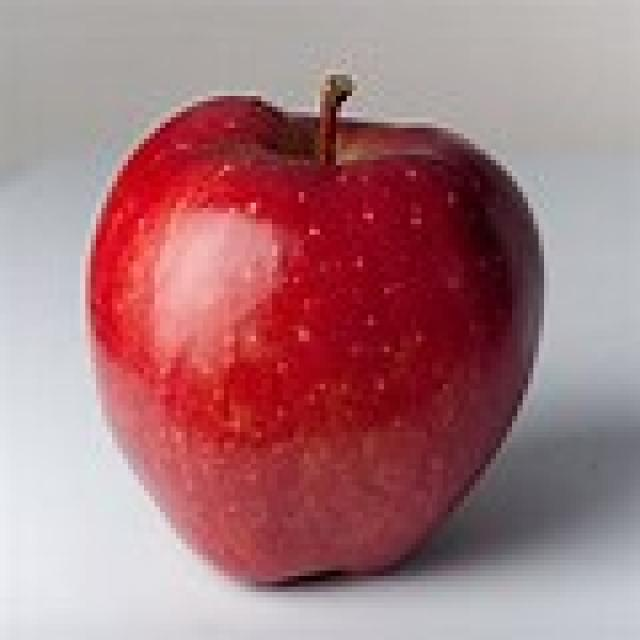apple: (85, 74, 546, 590)
